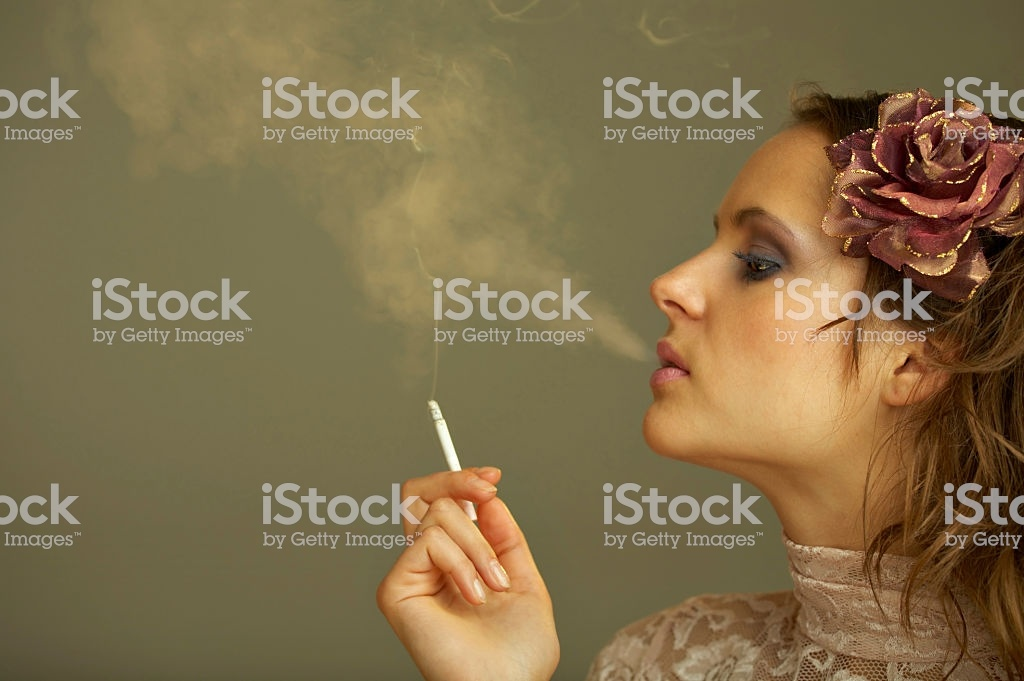sigaretta: (430, 398, 480, 531)
